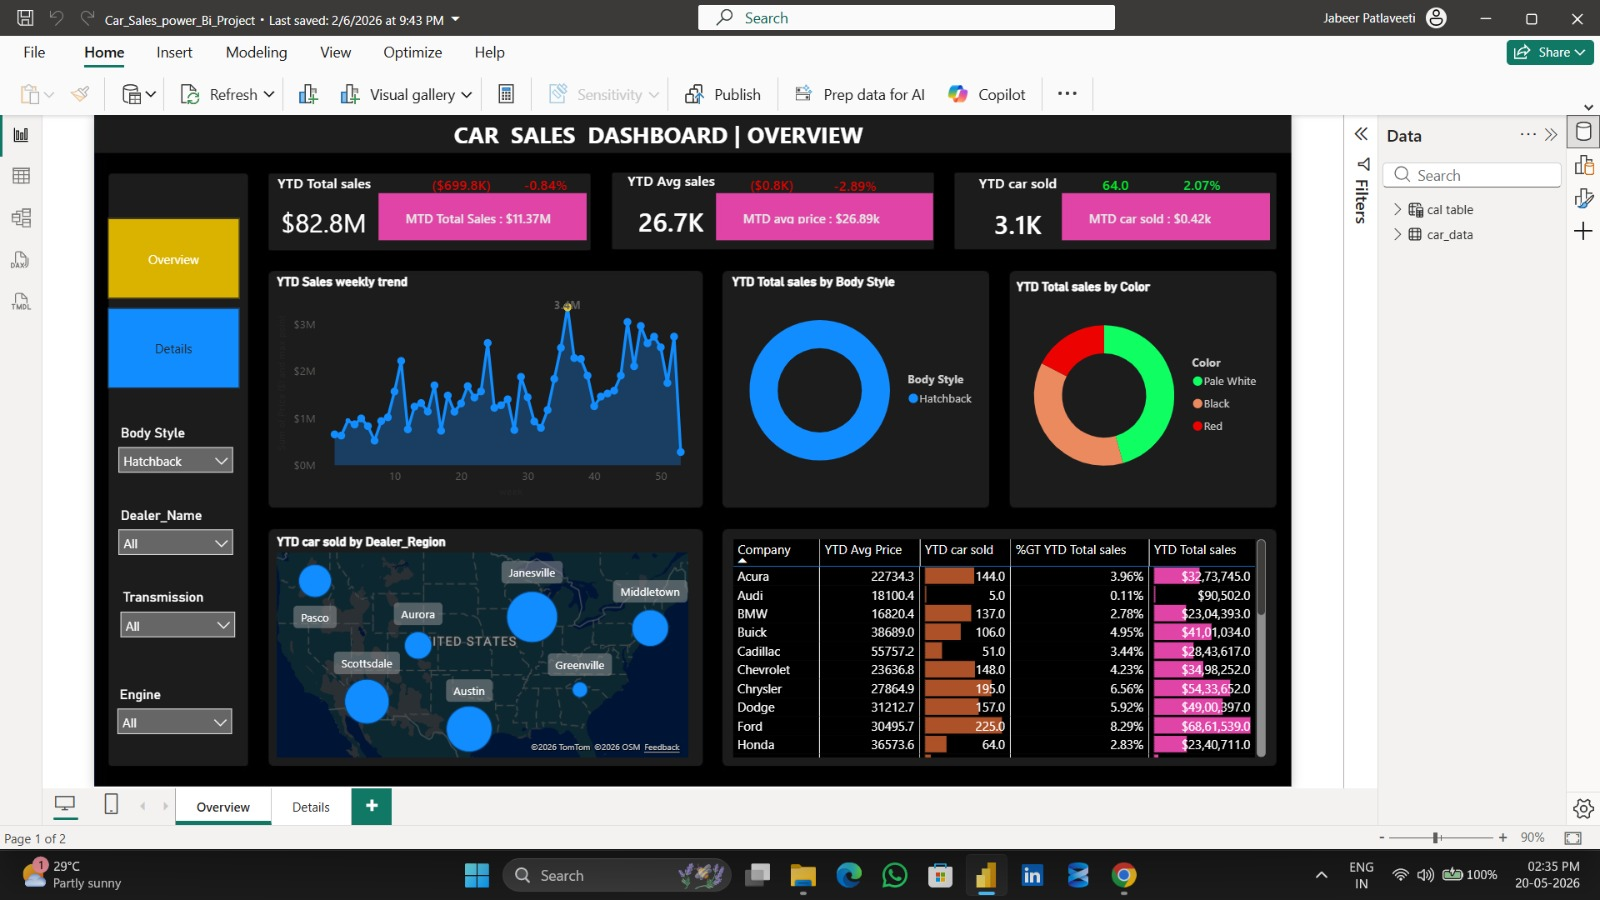

Layout of this report page (visuals, bound fields, positions):
{"tool":"powerbi","page":{"name":"Overview","canvas":[1280,720],"ordinal":0},"visuals":[{"type":"cardVisual","title":"YTD Total sales","fields":{"Data":["car_data.YTD sales"]},"box":[156.6,62.3,178,81.9],"z":0},{"type":"cardVisual","fields":{"Data":["car_data.sales diff"]},"box":[320.4,44.5,144.2,58.7],"z":1},{"type":"cardVisual","fields":{"Data":["car_data.YoY sale growth"]},"box":[423.6,44.5,117.5,58.7],"z":2},{"type":"cardVisual","fields":{"Data":["car_data.MTD KPI"]},"box":[304.4,83.7,222.2,50.5],"z":3},{"type":"cardVisual","title":"YTD Avg sales","fields":{"Data":["car_data.YTD Avg Price"]},"box":[526.6,60.6,180.3,85.1],"z":4},{"type":"cardVisual","fields":{"Data":["car_data.Avg price dif"]},"box":[652.1,44.7,144.3,57.7],"z":7},{"type":"cardVisual","fields":{"Data":["car_data.YoY Avg price growth"]},"box":[741.6,46.2,144.3,57.7],"z":10},{"type":"cardVisual","fields":{"Data":["car_data.MTD avg price KPI"]},"box":[665.1,83.7,232.3,50.5],"z":11},{"type":"cardVisual","title":"YTD car sold","fields":{"Data":["car_data.YTD car sold"]},"box":[897.4,62,180.3,85.1],"z":12},{"type":"cardVisual","fields":{"Data":["car_data.car sold dif"]},"box":[1020,44.7,144.3,57.7],"z":13},{"type":"cardVisual","fields":{"Data":["car_data.YOY car sold growth"]},"box":[1112.4,44.7,144.3,57.7],"z":14},{"type":"cardVisual","fields":{"Data":["car_data.MTD car sold KPI"]},"box":[1034.5,83.7,222.2,50.5],"z":15},{"type":"areaChart","title":"YTD Sales weekly trend","fields":{"Category":["cal table.week"],"Y":["Sum(car_data.Price ($))","car_data.max point"]},"box":[190.4,170.2,458.8,243.8],"z":16},{"type":"donutChart","fields":{"Category":["car_data.Body Style"],"Y":["car_data.YTD Total sales"]},"box":[676.7,170.2,275.6,233.7],"z":17},{"type":"donutChart","fields":{"Category":["car_data.Color"],"Y":["car_data.YTD Total sales"]},"box":[981.1,176,275.6,233.7],"z":18},{"type":"azureMap","fields":{"Category":["car_data.Dealer_Region"],"Size":["car_data.YTD car sold"]},"box":[190.4,448.7,450.1,242.4],"z":19},{"type":"tableEx","fields":{"Values":["car_data.Company","car_data.YTD Avg Price","car_data.YTD car sold","car_data.YTD Total sales","car_data.YTD Total sales1"]},"box":[676.7,448.7,580,242.4],"z":20},{"type":"textbox","box":[379.4,0,455.9,44.7],"z":21},{"type":"slicer","fields":{"Values":["car_data.Body Style"]},"box":[15.9,326.1,142.8,67.8],"z":22},{"type":"slicer","fields":{"Values":["car_data.Dealer_Name"]},"box":[15.9,414.1,142.8,67.8],"z":23},{"type":"slicer","fields":{"Values":["car_data.Engine"]},"box":[14.4,606,142.8,67.8],"z":24},{"type":"slicer","fields":{"Values":["car_data.Transmission"]},"box":[17.3,502.1,142.8,67.8],"z":25},{"type":"pageNavigator","box":[14.4,109.6,141.4,183.2],"z":26}]}

Visuals, with their boxes on the page's 1280x720 design canvas (x1, y1, x2, y2). These are canvas units, not pixel positions in the 1600x900 screenshot, which may show the page scaled, cropped or inside an application window:
"YTD Total sales" cardVisual: Rect(157, 62, 335, 144)
cardVisual - car_data.sales diff: Rect(320, 44, 465, 103)
cardVisual - car_data.YoY sale growth: Rect(424, 44, 541, 103)
cardVisual - car_data.MTD KPI: Rect(304, 84, 527, 134)
"YTD Avg sales" cardVisual: Rect(527, 61, 707, 146)
cardVisual - car_data.Avg price dif: Rect(652, 45, 796, 102)
cardVisual - car_data.YoY Avg price growth: Rect(742, 46, 886, 104)
cardVisual - car_data.MTD avg price KPI: Rect(665, 84, 897, 134)
"YTD car sold" cardVisual: Rect(897, 62, 1078, 147)
cardVisual - car_data.car sold dif: Rect(1020, 45, 1164, 102)
cardVisual - car_data.YOY car sold growth: Rect(1112, 45, 1257, 102)
cardVisual - car_data.MTD car sold KPI: Rect(1034, 84, 1257, 134)
"YTD Sales weekly trend" areaChart: Rect(190, 170, 649, 414)
donutChart - car_data.Body Style x car_data.YTD Total sales: Rect(677, 170, 952, 404)
donutChart - car_data.Color x car_data.YTD Total sales: Rect(981, 176, 1257, 410)
azureMap - car_data.Dealer_Region x car_data.YTD car sold: Rect(190, 449, 640, 691)
tableEx - car_data.Company x car_data.YTD Avg Price: Rect(677, 449, 1257, 691)
textbox: Rect(379, 0, 835, 45)
slicer - car_data.Body Style: Rect(16, 326, 159, 394)
slicer - car_data.Dealer_Name: Rect(16, 414, 159, 482)
slicer - car_data.Engine: Rect(14, 606, 157, 674)
slicer - car_data.Transmission: Rect(17, 502, 160, 570)
pageNavigator: Rect(14, 110, 156, 293)
